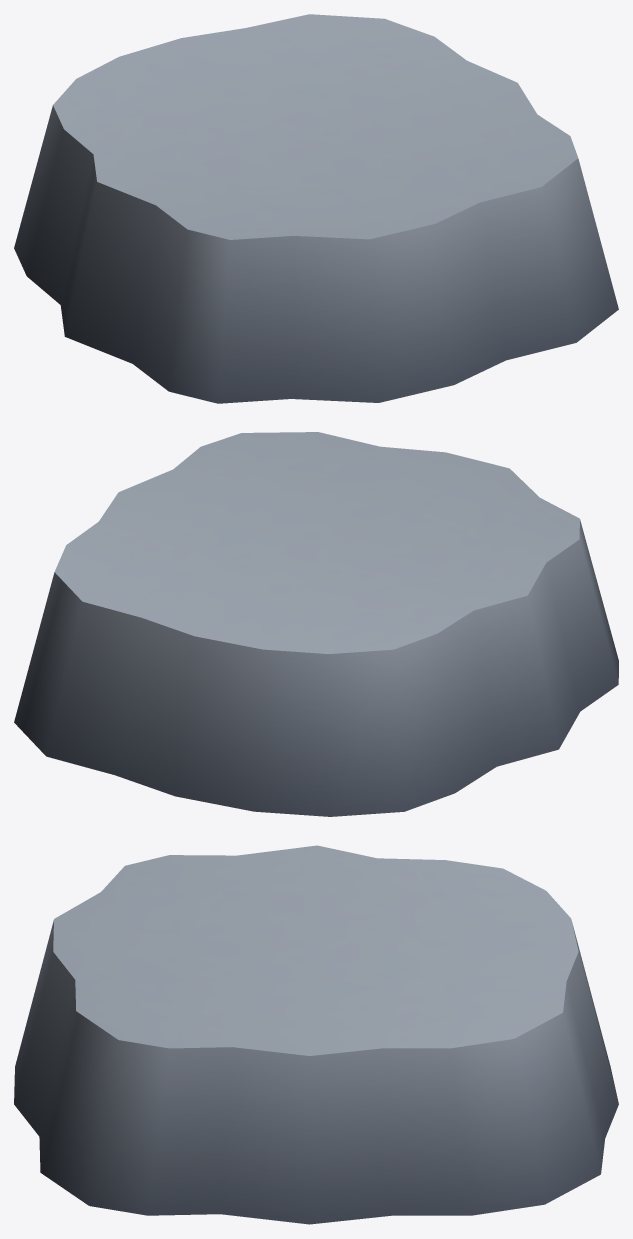
The model's file is Island.fbx.
3 renders of one model, top to bottom at view 1: azimuth 30°, elevation 25°; view 2: azimuth 150°, elevation 25°; view 3: azimuth 270°, elevation 25°, orthographic. The views are drawn at different scales.
Visible parts, largest first — view 1: Plane.001; view 2: Plane.001; view 3: Plane.001.
Part boxes in pixels (bbox=[...]): Plane.001: bbox=[14, 14, 618, 403]; Plane.001: bbox=[14, 432, 618, 816]; Plane.001: bbox=[14, 845, 618, 1224].
Bounding box in the file's own units: 4571 × 1341 × 4818.
